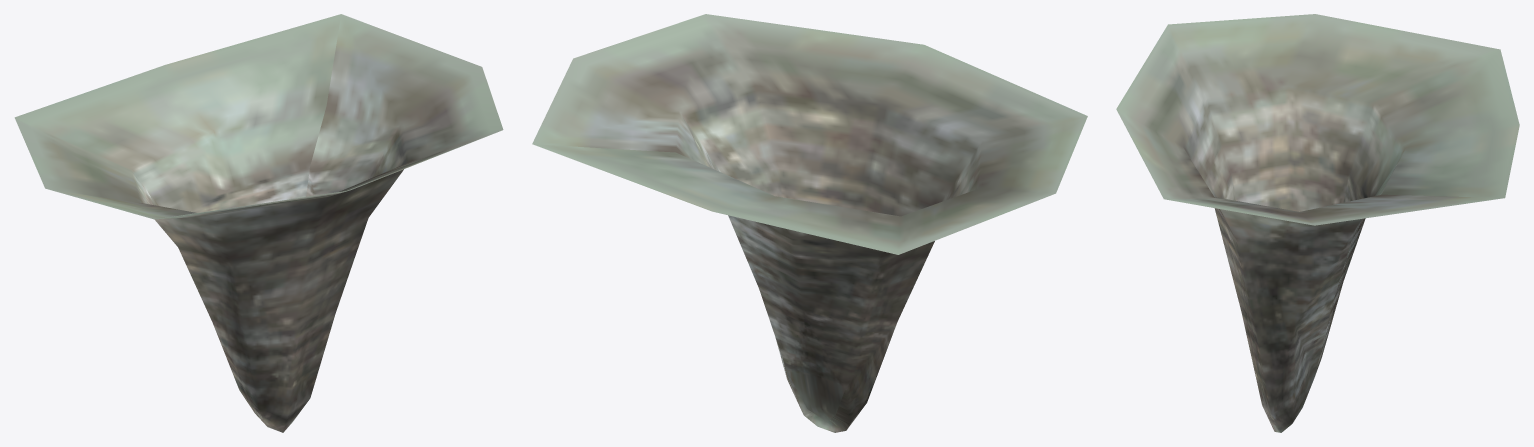
Rendered from TROLLHOLE02_PS-MAINSTALAG70.fbx.
The picture shows the model from 3 angles, left to right: view 1: azimuth 30°, elevation 25°; view 2: azimuth 150°, elevation 25°; view 3: azimuth 270°, elevation 25°; orthographic projection. The views are drawn at different scales.
Visible parts, largest first — view 1: TROLLHOLE02_PS-MAINSTALAG70; view 2: TROLLHOLE02_PS-MAINSTALAG70; view 3: TROLLHOLE02_PS-MAINSTALAG70.
Part boxes in pixels (box(x1,y1,x2,y2)): TROLLHOLE02_PS-MAINSTALAG70: box(14, 14, 503, 432); TROLLHOLE02_PS-MAINSTALAG70: box(532, 14, 1087, 432); TROLLHOLE02_PS-MAINSTALAG70: box(1116, 14, 1519, 432).
Bounding box in the file's own units: 23700 × 15540 × 17730.
Materials: 1 (1 with a texture image).
